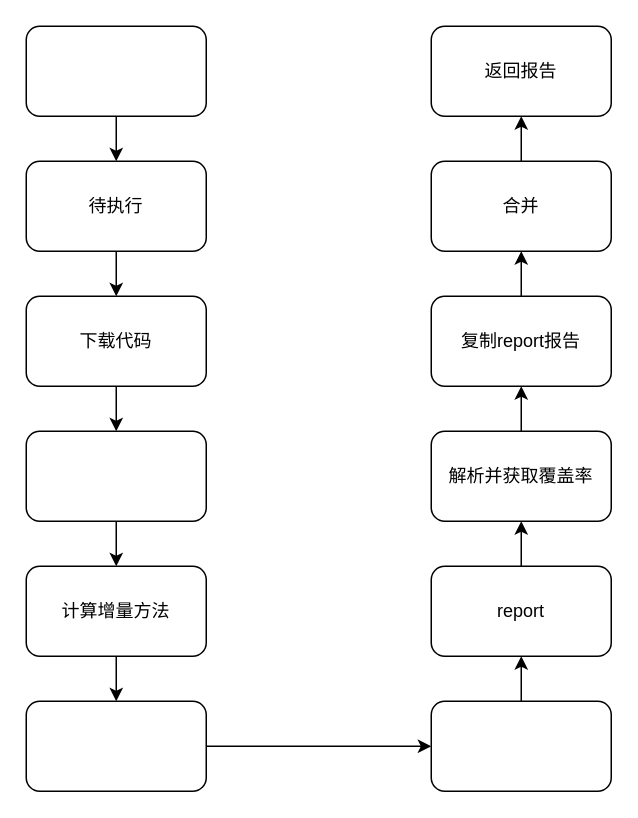
Some shapes in this 638 by 818 pixel diagram are drawn without their labels. The shapes that lost their labels are listed below. From the top down, each one's centre as x and y in pixels, then its label:
At (115,70): "初始化数据".
At (115,475): "编译代码".
At (115,745): "计算增量方法覆盖率".
At (520,745): "dump".
